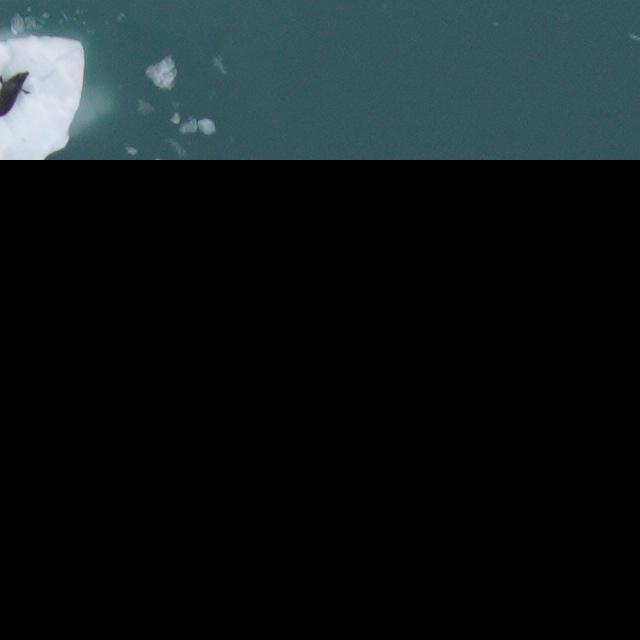seal: (0, 68, 34, 121)
